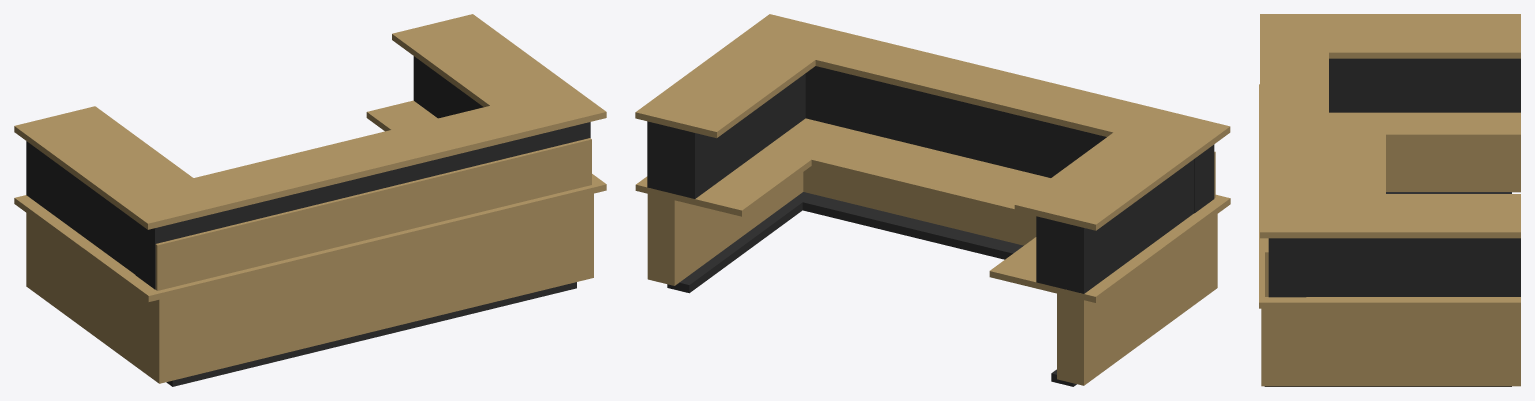
File: IslandDesk.fbx
3 views of the same model, side by side, from view 1: azimuth 30°, elevation 25°; view 2: azimuth 150°, elevation 25°; view 3: azimuth 270°, elevation 25° (orthographic). The views are drawn at different scales.
Visible parts, largest first — view 1: IslandDesk; view 2: IslandDesk; view 3: IslandDesk.
Part boxes in pixels (x1,y1,x2,y2): IslandDesk: (14, 14, 606, 386); IslandDesk: (635, 14, 1230, 386); IslandDesk: (1259, 14, 1520, 386).
Bounding box in the file's own units: 24.45 × 8.74 × 12.39.
